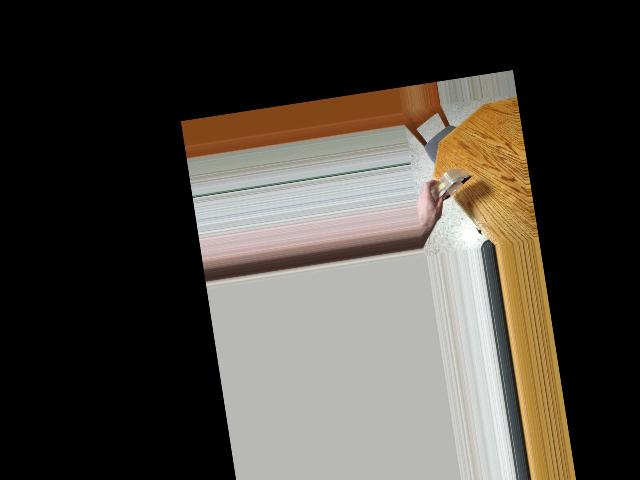cheese: (416, 156, 467, 220)
